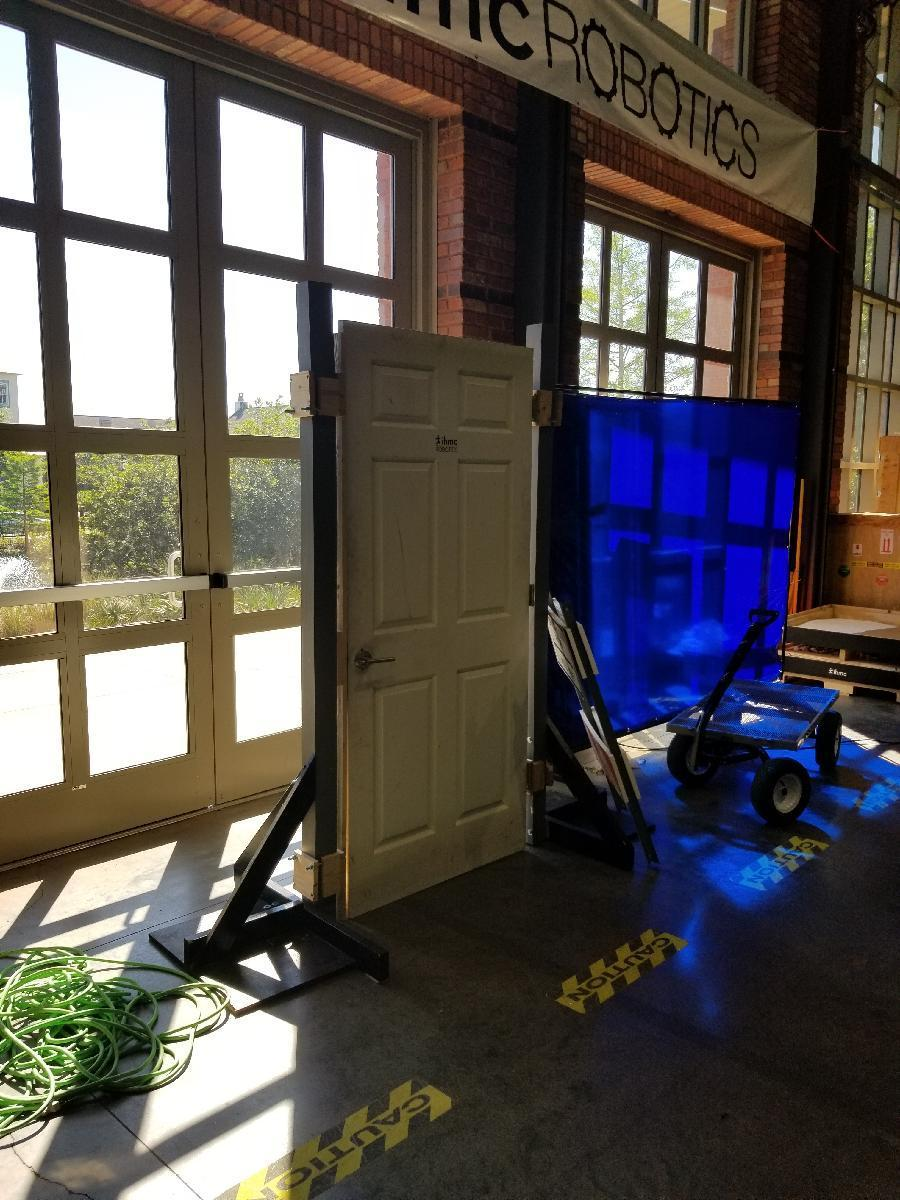door: (344, 328, 532, 899)
handle: (355, 647, 398, 678)
